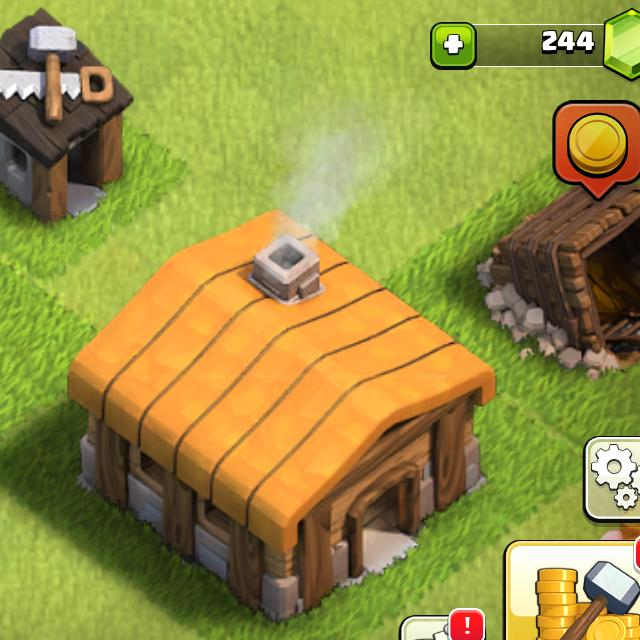FullCoin: (555, 100, 640, 199)
